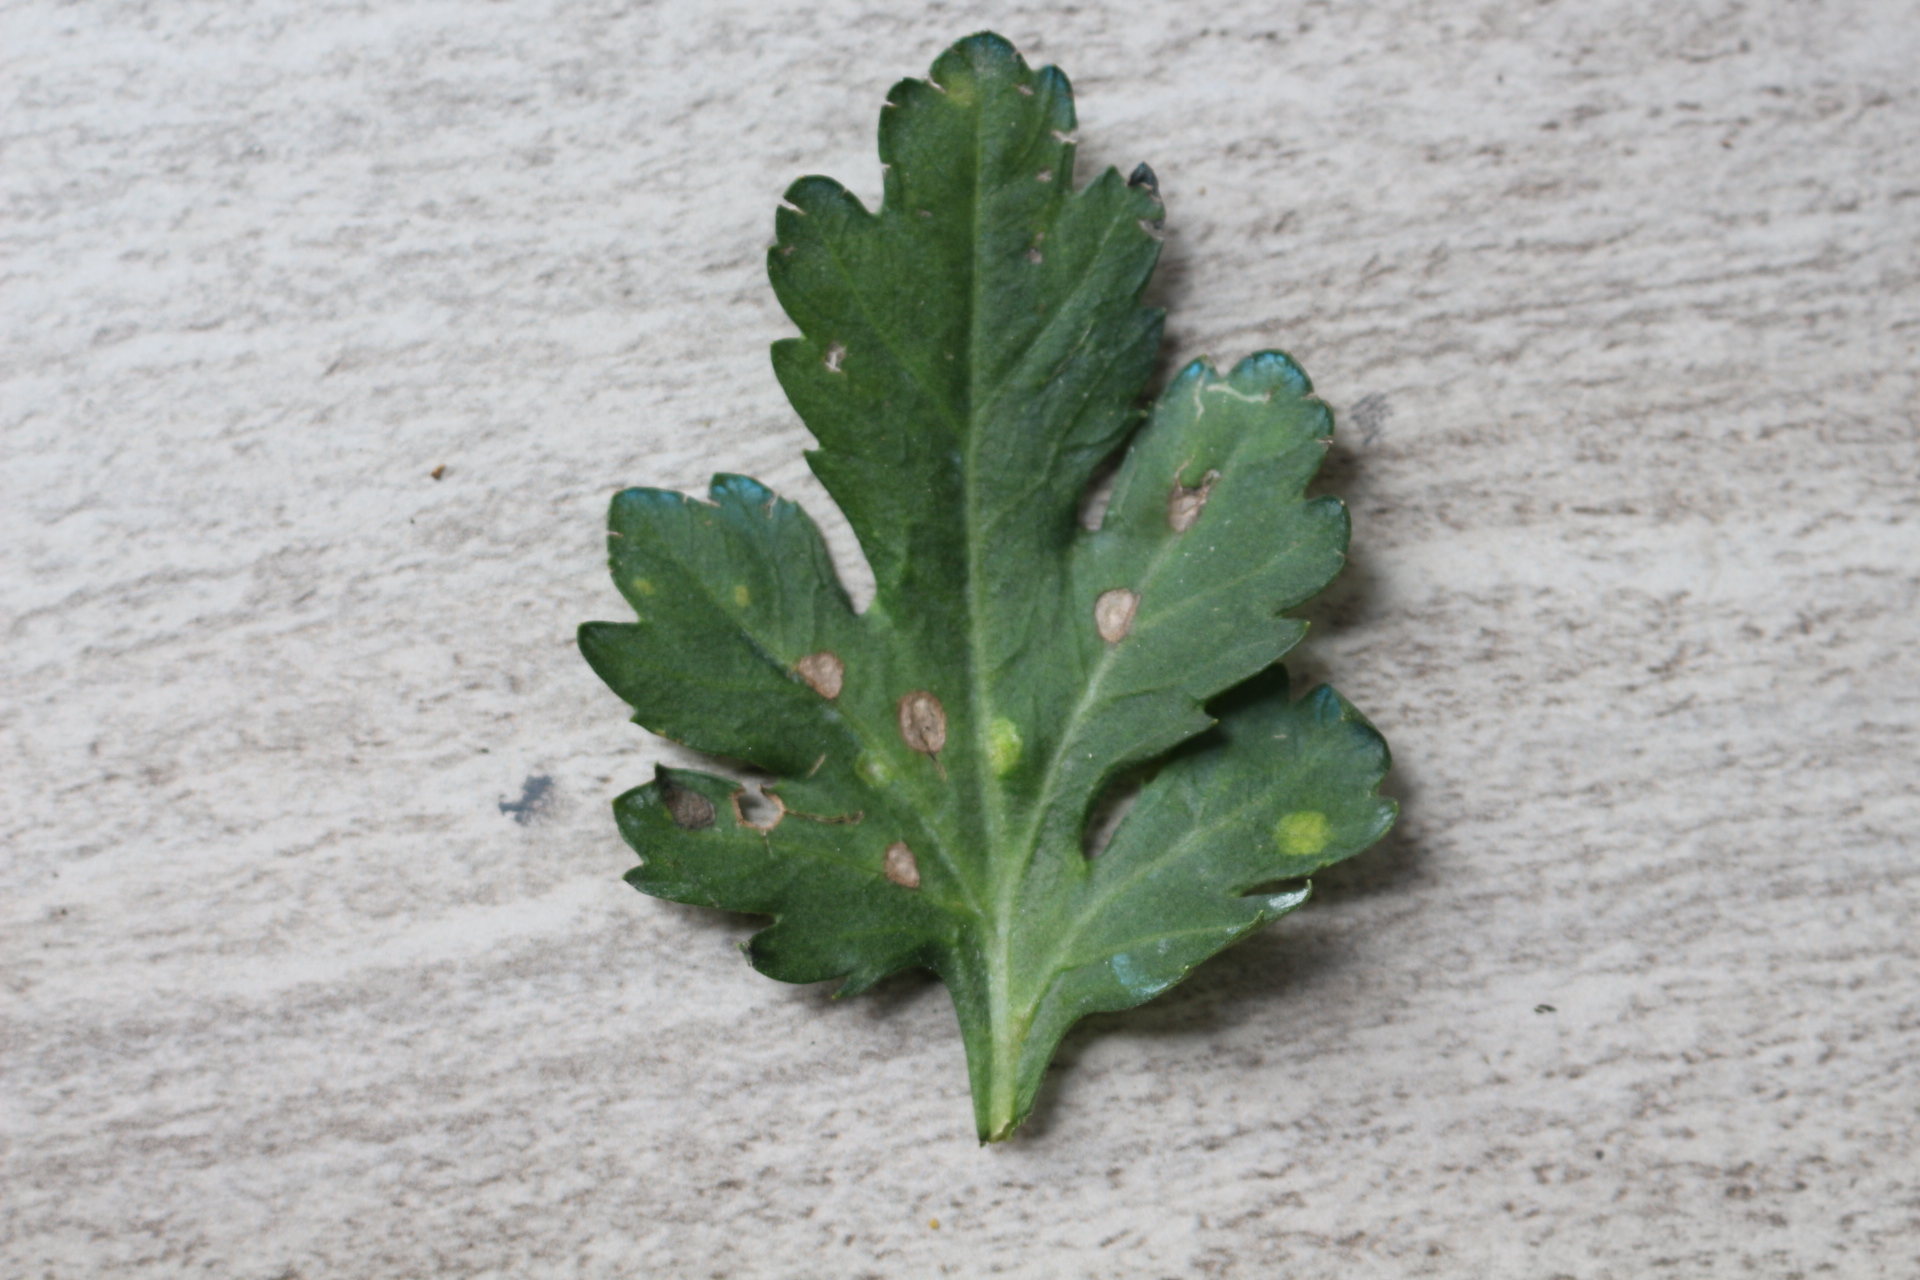namden: (900, 687, 950, 760), (793, 644, 851, 704), (1089, 587, 1146, 646), (1161, 471, 1217, 531), (876, 837, 929, 890)
namsung: (1267, 807, 1339, 856), (984, 713, 1030, 774)
